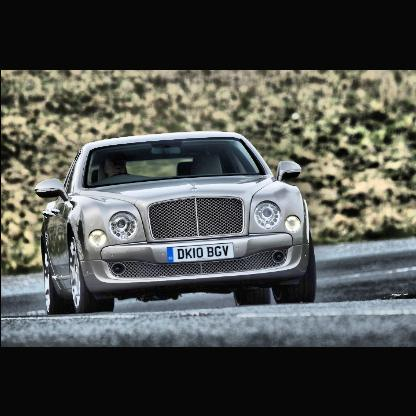Bentley Mulsanne Sedan 2011: (37, 130, 318, 316)
